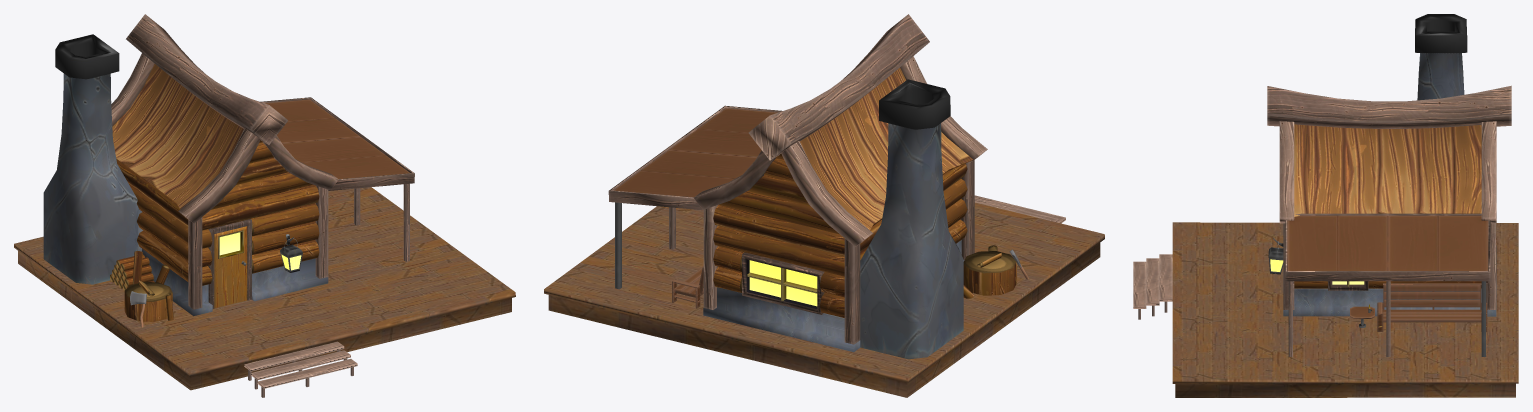
File: cabin.fbx
3 views of the same model, side by side, from view 1: azimuth 30°, elevation 25°; view 2: azimuth 150°, elevation 25°; view 3: azimuth 270°, elevation 25° (orthographic). The views are drawn at different scales.
Visible parts, largest first — view 1: patio_floor_low, chimney_low, roof_tiles1_low, patio_roof_low, roof_beam_low, concrete_wall_low, door_main_low, roof_curved_beam4_low, log9_low, log10_low, log8_low, patio_roof_beam1_low (+18 smaller); view 2: patio_floor_low, chimney_low, roof_tiles1_low, patio_roof_low, roof_beam_low, concrete_wall_low, window_frame_low, log21_low, roof_curved_beam3_low, log22_low, log_base_low, log20_low (+12 smaller); view 3: patio_floor_low, roof_tiles_low, patio_roof_low, roof_beam_low, chimney_low, patio_roof_beam1_low, concrete_wall_low, benchpiece4_low, roof_curved_beam1_low, roof_curved_beam2_low, benchpiece12_low, log1_low (+11 smaller).
Boxes of the visible parts, x1,y1,x2,y2 form: patio_floor_low: (14,187,515,390); chimney_low: (43,34,142,284); roof_tiles1_low: (112,64,243,209); patio_roof_low: (265,99,410,179); roof_beam_low: (126,14,288,144); concrete_wall_low: (142,249,328,316); door_main_low: (214,226,247,308); roof_curved_beam4_low: (178,128,260,223); log9_low: (202,185,319,230); log10_low: (211,172,313,209); log8_low: (202,203,319,248); patio_roof_beam1_low: (260,97,414,190); patio_floor_low: (544,202,1104,397); chimney_low: (860,79,963,359); roof_tiles1_low: (800,68,973,229); patio_roof_low: (614,108,777,197); roof_beam_low: (748,14,929,160); concrete_wall_low: (703,240,964,352); window_frame_low: (742,252,824,314); log21_low: (713,205,844,256); roof_curved_beam3_low: (781,141,872,246); log22_low: (713,225,844,276); log_base_low: (963,251,1016,295); log20_low: (719,191,839,234); patio_floor_low: (1172,222,1518,397); roof_tiles_low: (1294,124,1481,216); patio_roof_low: (1287,215,1488,270); roof_beam_low: (1267,85,1511,128); chimney_low: (1415,14,1467,100); patio_roof_beam1_low: (1285,213,1490,281); concrete_wall_low: (1283,245,1496,316); benchpiece4_low: (1384,285,1480,307); roof_curved_beam1_low: (1279,121,1294,223); roof_curved_beam2_low: (1481,121,1496,223); benchpiece12_low: (1382,309,1481,319); log1_low: (1294,281,1481,288).
Size of the model in its own units: 193 by 137 by 200.
